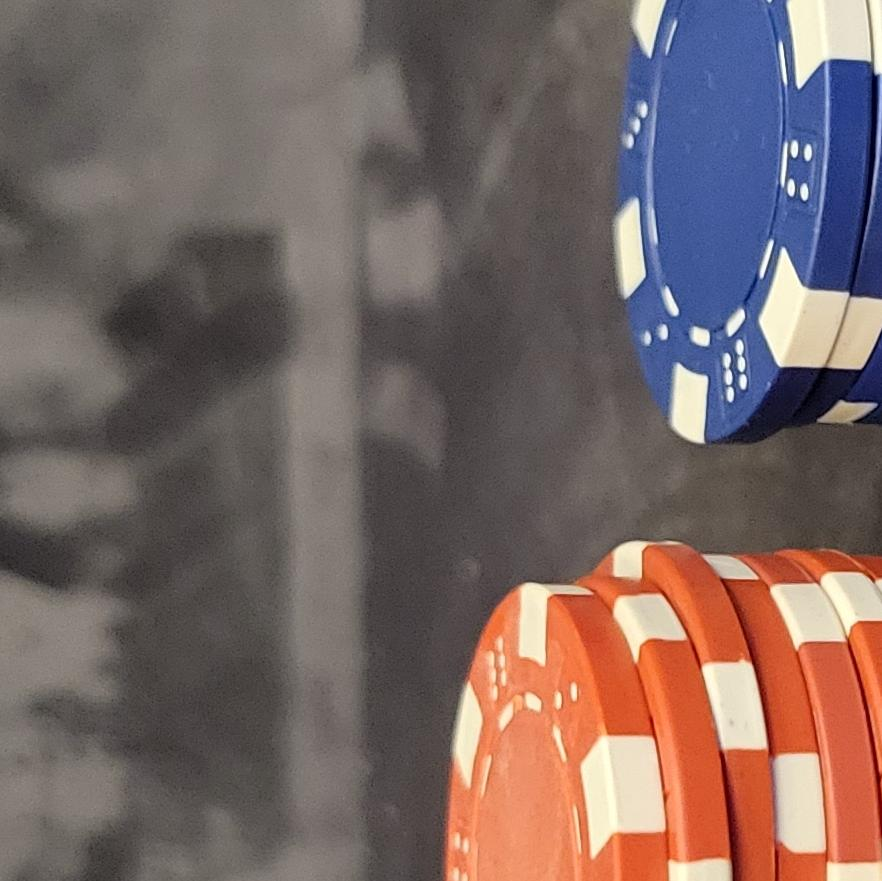Chip: (1, 333, 402, 881)
